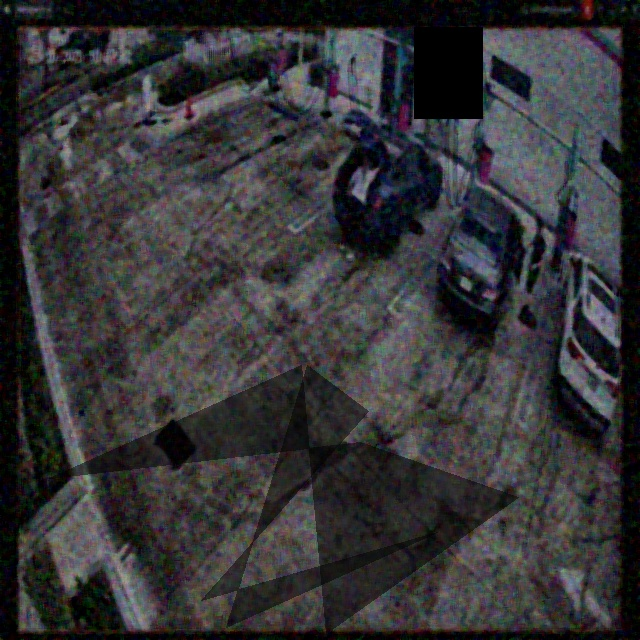Car: (333, 110, 442, 247), (437, 186, 524, 316)
